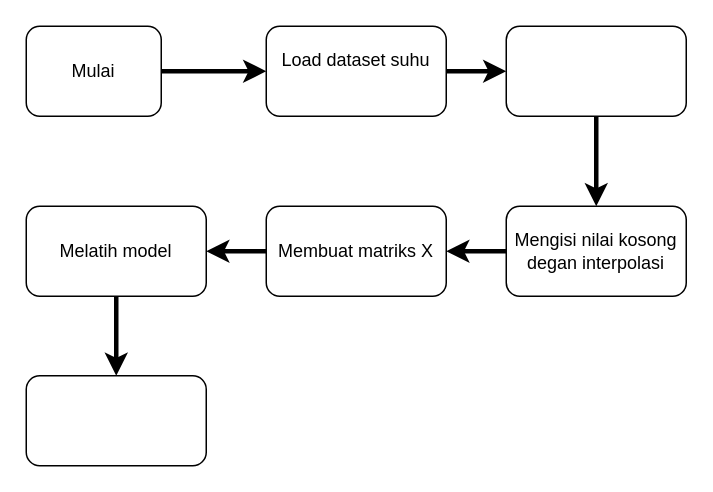
Some shapes in this 713 by 492 pixel diagram are drawn without their labels. Each missing label, with the box of its shape:
Menggabungkan dataset: (505, 25, 686, 116)
Menghitung RMSE dan MAPE: (25, 374, 206, 466)
